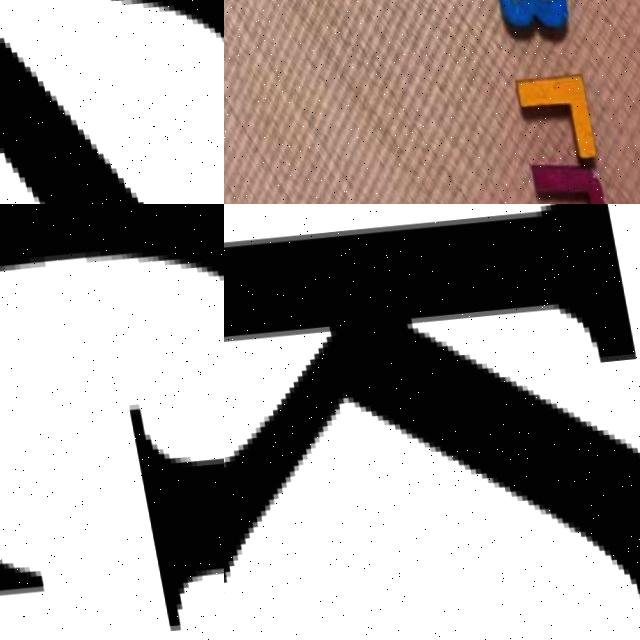B: (486, 0, 565, 35)
G: (0, 204, 224, 640)
K: (224, 204, 640, 640)
L: (509, 77, 589, 165)
S: (0, 0, 224, 204)
U: (520, 159, 603, 204)
